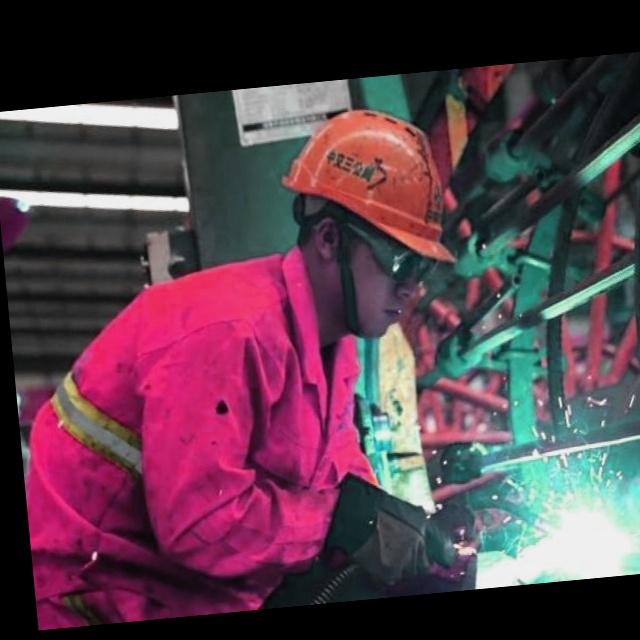Con_Casco: (280, 102, 462, 344)
